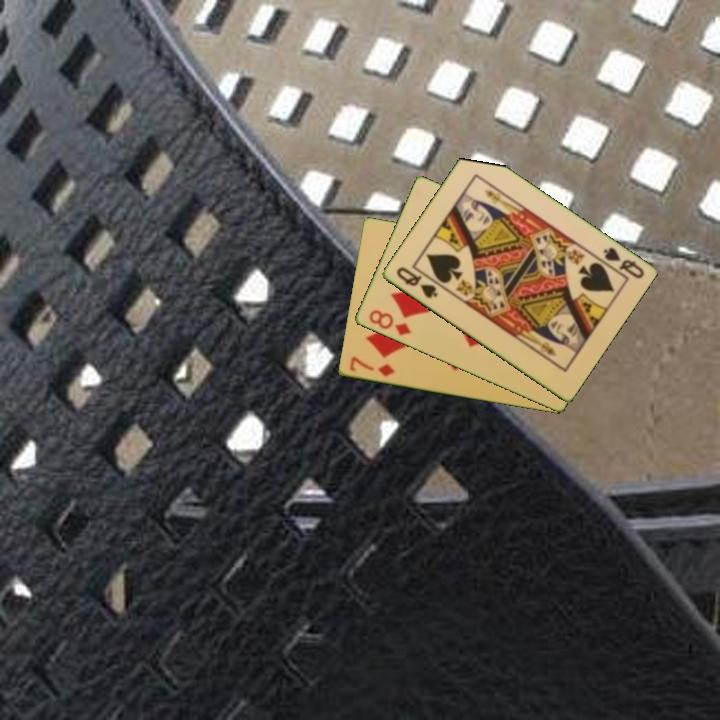7d: (346, 353, 397, 380)
8d: (365, 306, 414, 339)
Qs: (594, 244, 647, 282), (392, 263, 440, 302)
